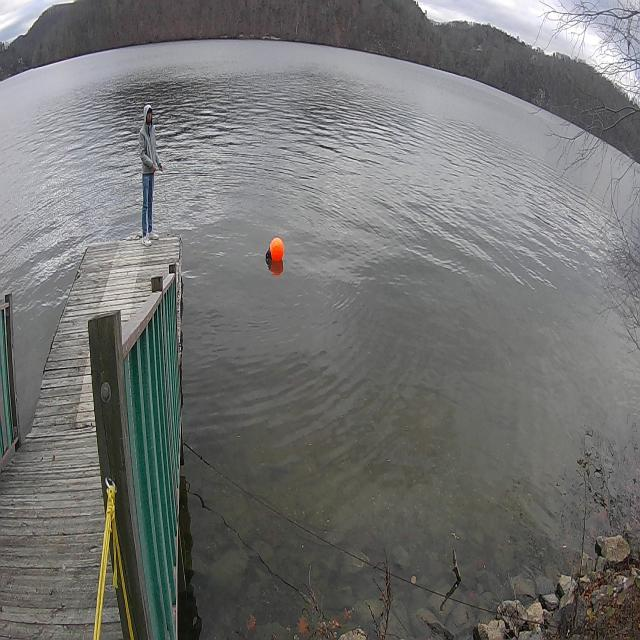Buoy: (262, 228, 293, 274)
